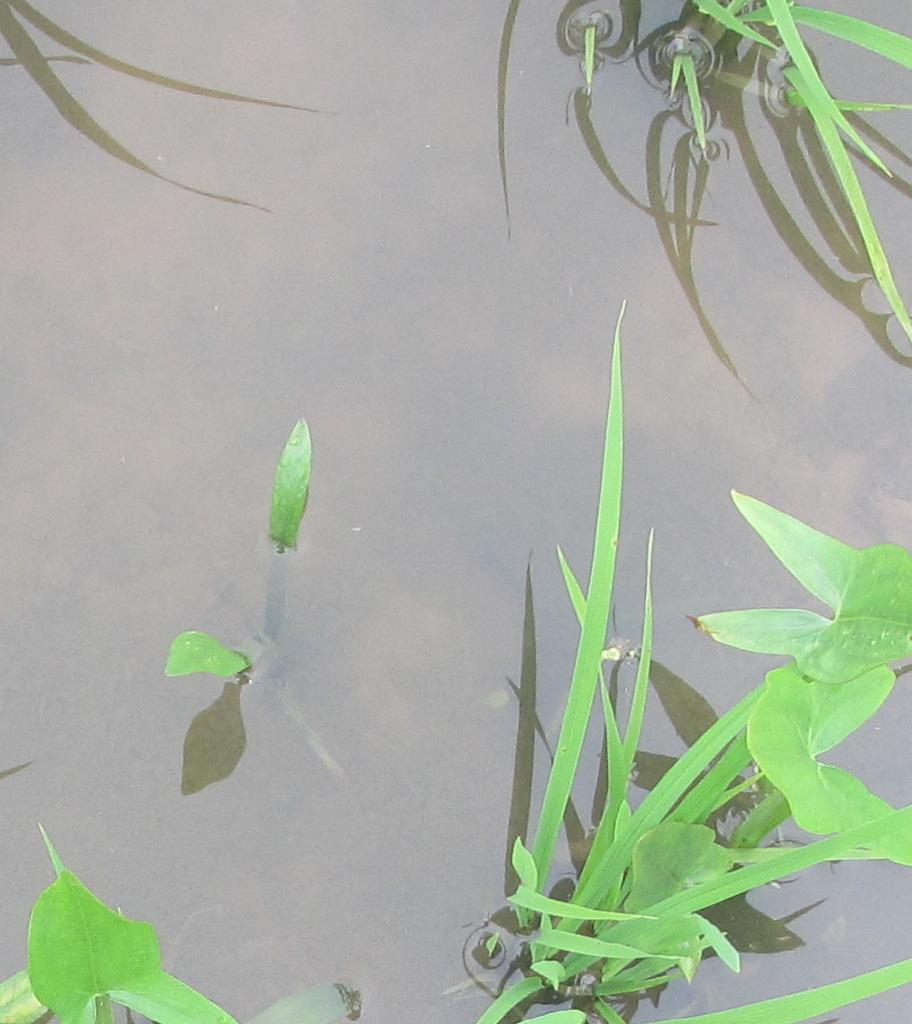Weed: (721, 503, 910, 866), (21, 869, 161, 1019)
